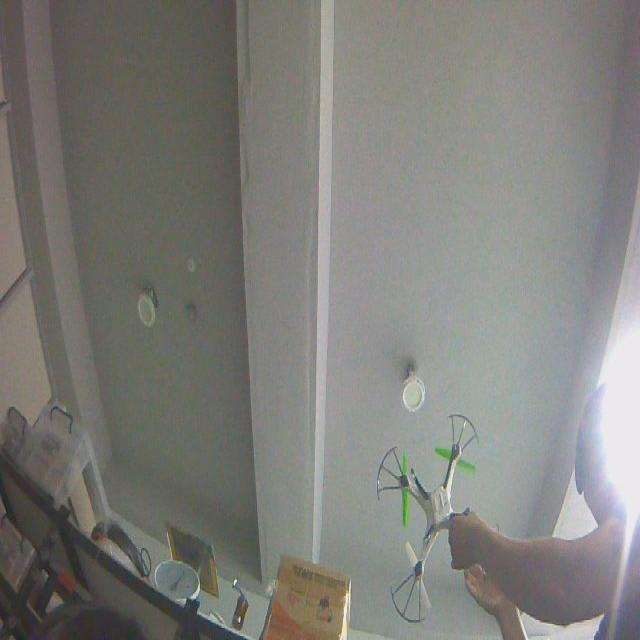drone: (374, 412, 501, 630)
